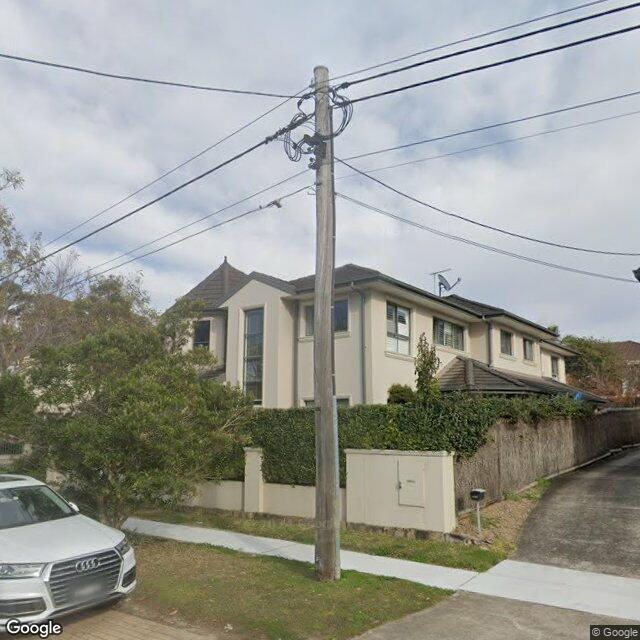timber-pole: (312, 66, 340, 583)
